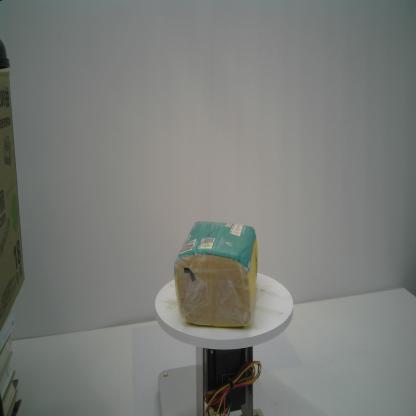Tissue: (172, 219, 258, 330)
